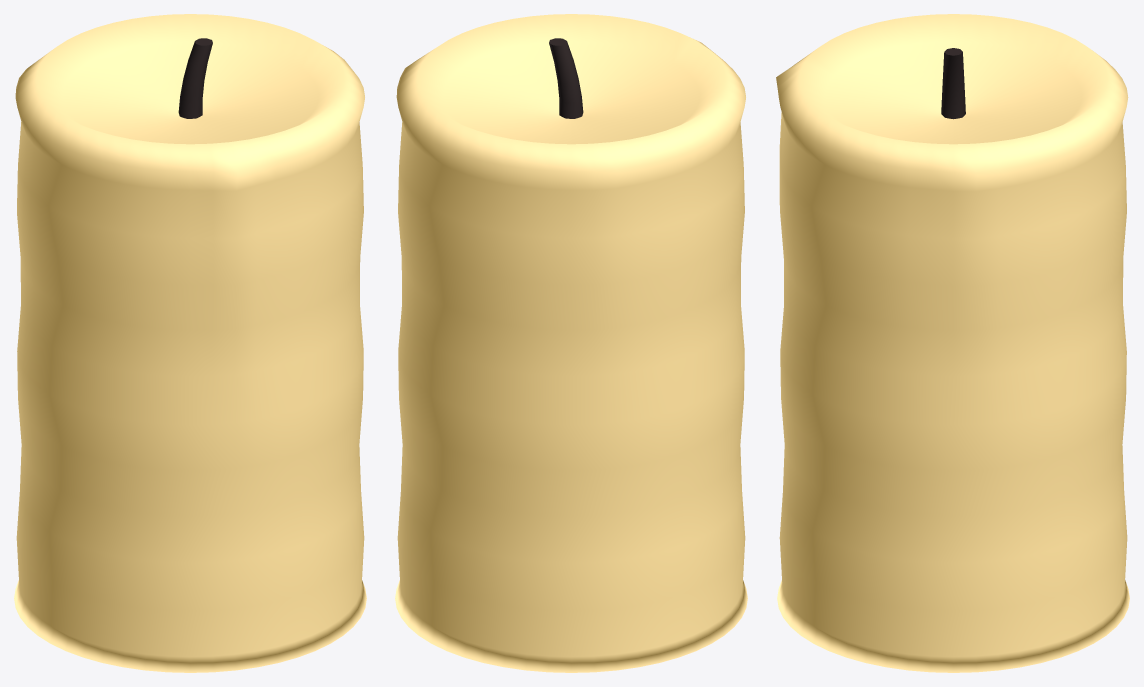
File: candle.glb
The picture shows the model from 3 angles, left to right: view 1: azimuth 30°, elevation 25°; view 2: azimuth 150°, elevation 25°; view 3: azimuth 270°, elevation 25°; orthographic projection.
Visible parts, largest first — view 1: CandleBody, Wick; view 2: CandleBody, Wick; view 3: CandleBody, Wick.
Part boxes in pixels (<box>): CandleBody: <box>14,14,366,672</box>; Wick: <box>178,38,212,118</box>; CandleBody: <box>395,14,747,672</box>; Wick: <box>549,38,583,118</box>; CandleBody: <box>776,14,1129,672</box>; Wick: <box>941,48,965,119</box>.
Bounding box in the file's own units: 0.2281 × 0.392 × 0.2273.
